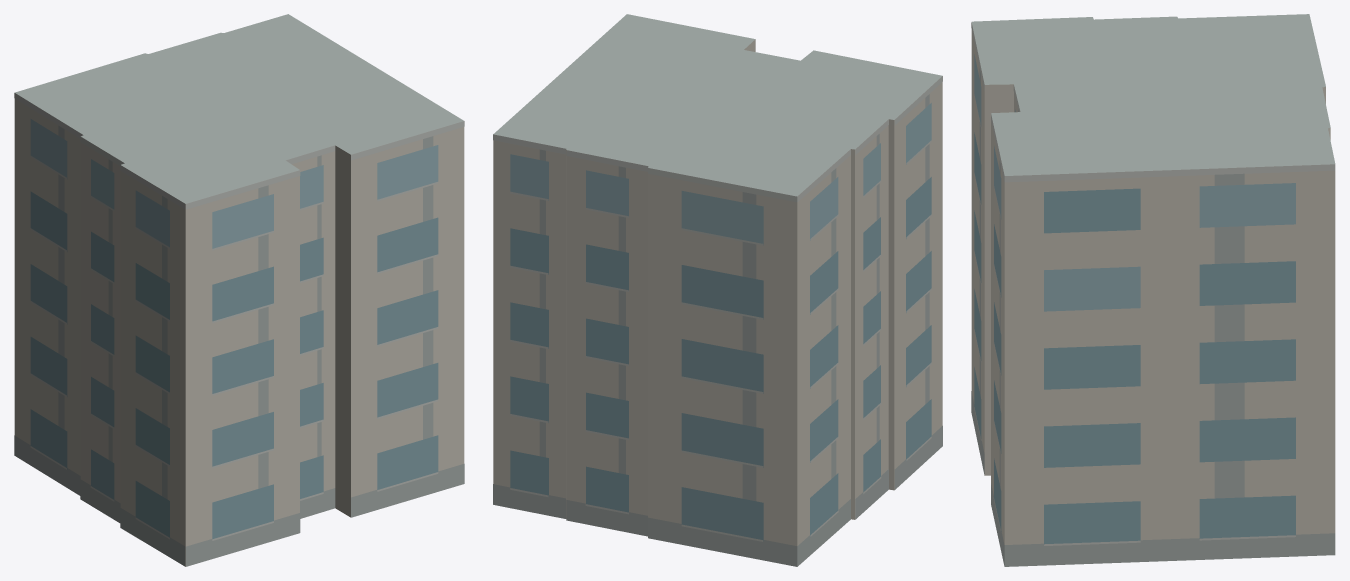
The model's file is survey-upis-32632199.glb.
3 renders of one model, left to right at view 1: azimuth 30°, elevation 25°; view 2: azimuth 150°, elevation 25°; view 3: azimuth 270°, elevation 25°, orthographic. The views are drawn at different scales.
Visible parts, largest first — view 1: survey-upis-32632199.tmp; view 2: survey-upis-32632199.tmp; view 3: survey-upis-32632199.tmp.
Boxes of the visible parts, x1=… form: survey-upis-32632199.tmp: x1=14, y1=14, x2=464, y2=566; survey-upis-32632199.tmp: x1=493, y1=14, x2=942, y2=566; survey-upis-32632199.tmp: x1=971, y1=14, x2=1335, y2=566.
Size of the model in its own units: 13.57 by 15.25 by 12.88.
